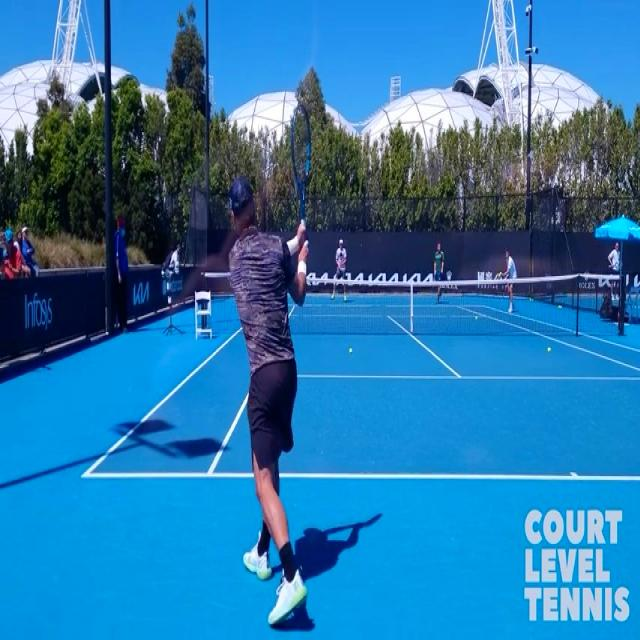backhand-finish: (222, 98, 312, 628)
